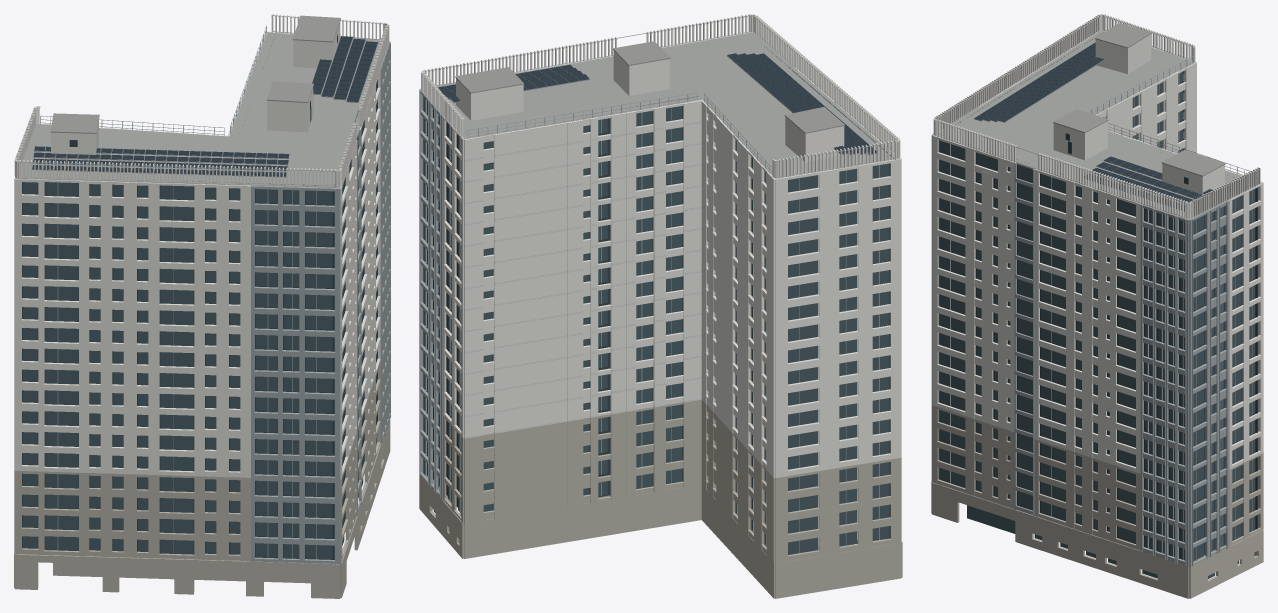
File: bespoke-maple-xi-203.glb
3 views of the same model, side by side, from view 1: azimuth 30°, elevation 25°; view 2: azimuth 150°, elevation 25°; view 3: azimuth 270°, elevation 25° (orthographic). The views are drawn at different scales.
Parts seen in each view (by area): view 1: Maple203_SW_unequal_white_piers001, Maple203_SW_wide_glass, Maple203_203_L_roof_slab, Maple203_SW_small_glass, Maple203_SW_recess_back, Maple203_SW_corner_metal_2_recessed_glass, Maple203_SW_unequal_white_piers, Maple203_SE_unequal_pale_piers001, Maple203_SW_corner_metal_0_recessed_glass, Maple203_SW_corner_opaque_piers, Maple203_203_thick_rounded_roof_fins, Maple203_SW_corner_metal_1_recessed_glass (+63 smaller); view 2: Maple203_NW_blank_core_wall001, Maple203_NE_inner_SWarm_blankwall001, Maple203_NW_end_unverified_piers001, Maple203_203_L_roof_slab, Maple203_partially_unseen_ground_stone, Maple203_NW_end_provisional_opening_glass, Maple203_NW_blank_core_wall, Maple203_NW_inner_pair_glass, Maple203_203_thick_rounded_roof_fins, Maple203_NE_inner_SWarm_blankwall, Maple203_NW_end_unverified_piers, Maple203_NW_end_provisional_opening_sillwall001 (+50 smaller); view 3: Maple203_SE_unequal_pale_piers001, Maple203_203_L_roof_slab, Maple203_SE_wide_glass, Maple203_203_thick_rounded_roof_fins, Maple203_SE_recess_back, Maple203_observed_ground_stone_piers, Maple203_SE_unequal_pale_piers, Maple203_NE_bedroom_opaque_piers001, Maple203_NE_plain_bedroom_glass, Maple203_SE_central_dark_infill_glass, Maple203_NE_inner_SWarm_blankwall001, Maple203_SE_mid_glass (+76 smaller).
Part boxes in pixels (bbox=[...]): Maple203_SW_unequal_white_piers001: bbox=[15, 178, 228, 477]; Maple203_SW_wide_glass: bbox=[45, 182, 193, 554]; Maple203_203_L_roof_slab: bbox=[15, 32, 380, 188]; Maple203_SW_small_glass: bbox=[90, 184, 239, 554]; Maple203_SW_recess_back: bbox=[22, 177, 334, 559]; Maple203_SW_corner_metal_2_recessed_glass: bbox=[305, 190, 334, 559]; Maple203_SW_unequal_white_piers: bbox=[15, 471, 228, 560]; Maple203_SE_unequal_pale_piers001: bbox=[339, 83, 375, 479]; Maple203_SW_corner_metal_0_recessed_glass: bbox=[255, 189, 277, 557]; Maple203_SW_corner_opaque_piers: bbox=[251, 185, 340, 564]; Maple203_203_thick_rounded_roof_fins: bbox=[14, 16, 389, 187]; Maple203_SW_corner_metal_1_recessed_glass: bbox=[283, 190, 299, 558]; Maple203_NW_blank_core_wall001: bbox=[464, 100, 702, 438]; Maple203_NE_inner_SWarm_blankwall001: bbox=[701, 100, 775, 477]; Maple203_NW_end_unverified_piers001: bbox=[775, 158, 900, 477]; Maple203_203_L_roof_slab: bbox=[437, 32, 899, 178]; Maple203_partially_unseen_ground_stone: bbox=[464, 485, 900, 598]; Maple203_NW_end_provisional_opening_glass: bbox=[788, 163, 889, 554]; Maple203_NW_blank_core_wall: bbox=[464, 400, 701, 523]; Maple203_NW_inner_pair_glass: bbox=[636, 106, 681, 488]; Maple203_203_thick_rounded_roof_fins: bbox=[421, 16, 897, 177]; Maple203_NE_inner_SWarm_blankwall: bbox=[701, 400, 774, 563]; Maple203_NW_end_unverified_piers: bbox=[775, 458, 900, 563]; Maple203_NW_end_provisional_opening_sillwall001: bbox=[788, 177, 890, 475]; Maple203_SE_unequal_pale_piers001: bbox=[932, 135, 1116, 465]; Maple203_203_L_roof_slab: bbox=[934, 30, 1261, 219]; Maple203_SE_wide_glass: bbox=[939, 140, 1065, 520]; Maple203_203_thick_rounded_roof_fins: bbox=[935, 16, 1260, 218]; Maple203_SE_recess_back: bbox=[940, 134, 1193, 561]; Maple203_observed_ground_stone_piers: bbox=[932, 482, 1263, 598]; Maple203_SE_unequal_pale_piers: bbox=[932, 405, 1116, 542]; Maple203_NE_bedroom_opaque_piers001: bbox=[1229, 183, 1263, 469]; Maple203_NE_plain_bedroom_glass: bbox=[1232, 187, 1258, 540]; Maple203_SE_central_dark_infill_glass: bbox=[1018, 165, 1032, 510]; Maple203_NE_inner_SWarm_blankwall001: bbox=[1095, 62, 1196, 153]; Maple203_SE_mid_glass: bbox=[1118, 199, 1135, 543].
Size of the model in its own units: 62.73 by 62.35 by 46.17.
